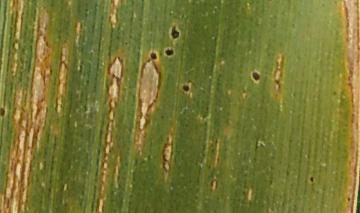tarspot: (167, 24, 182, 40), (249, 67, 263, 84), (181, 82, 194, 94), (164, 47, 177, 58), (148, 50, 158, 61), (308, 176, 316, 186), (1, 105, 6, 117), (346, 195, 352, 203)
